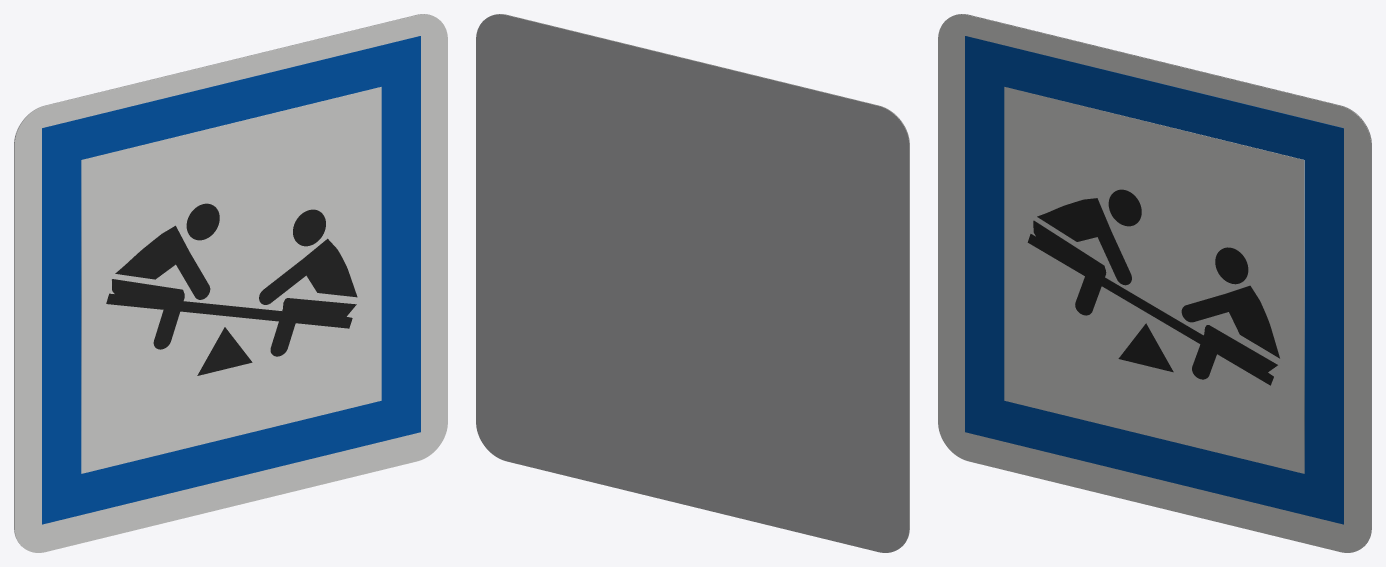
The picture shows the model from 3 angles, left to right: view 1: azimuth 30°, elevation 25°; view 2: azimuth 150°, elevation 25°; view 3: azimuth 330°, elevation 25°; orthographic projection.
Parts seen in each view (by area): view 1: CE23_p02, CE23_p01, CE23_p00, CE23_p07, CE23_p03, CE23_p06, CE23_p08, CE23_p05, CE23_p04, CE23_dos; view 2: CE23_dos, CE23_p00; view 3: CE23_p02, CE23_p01, CE23_p00, CE23_p07, CE23_p03, CE23_p06, CE23_p08, CE23_p04, CE23_p05, CE23_dos.
Part boxes in pixels (box(x1,y1,x2,y2)): CE23_p02: box(81, 87, 381, 473); CE23_p01: box(42, 36, 420, 524); CE23_p00: box(14, 14, 447, 552); CE23_p07: box(106, 279, 356, 356); CE23_p03: box(259, 238, 357, 304); CE23_p06: box(115, 225, 210, 299); CE23_p08: box(197, 327, 252, 375); CE23_p05: box(186, 203, 219, 240); CE23_p04: box(293, 209, 325, 246); CE23_dos: box(14, 14, 430, 546); CE23_dos: box(476, 14, 909, 552); CE23_p00: box(493, 14, 909, 546); CE23_p02: box(1004, 87, 1304, 473); CE23_p01: box(965, 36, 1343, 524); CE23_p00: box(938, 14, 1371, 552); CE23_p07: box(1027, 220, 1277, 385); CE23_p03: box(1181, 285, 1279, 358); CE23_p06: box(1037, 198, 1131, 285); CE23_p08: box(1118, 323, 1173, 372); CE23_p04: box(1215, 247, 1248, 284); CE23_p05: box(1108, 189, 1141, 226); CE23_dos: box(955, 14, 1371, 546).
Bounding box in the file's own units: 0.7 × 0.6889 × 0.0051.
